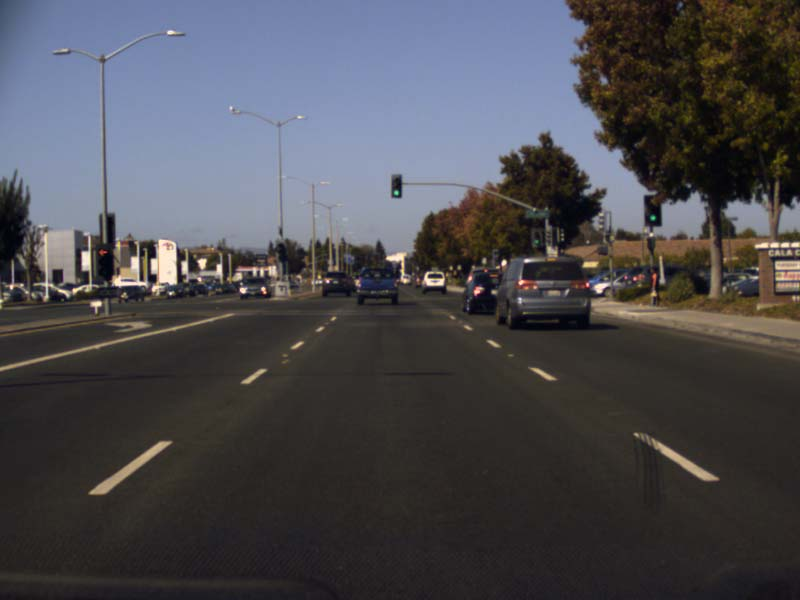Green: (643, 195, 661, 226), (391, 174, 401, 197), (532, 231, 540, 245)
Red: (96, 246, 113, 280)
